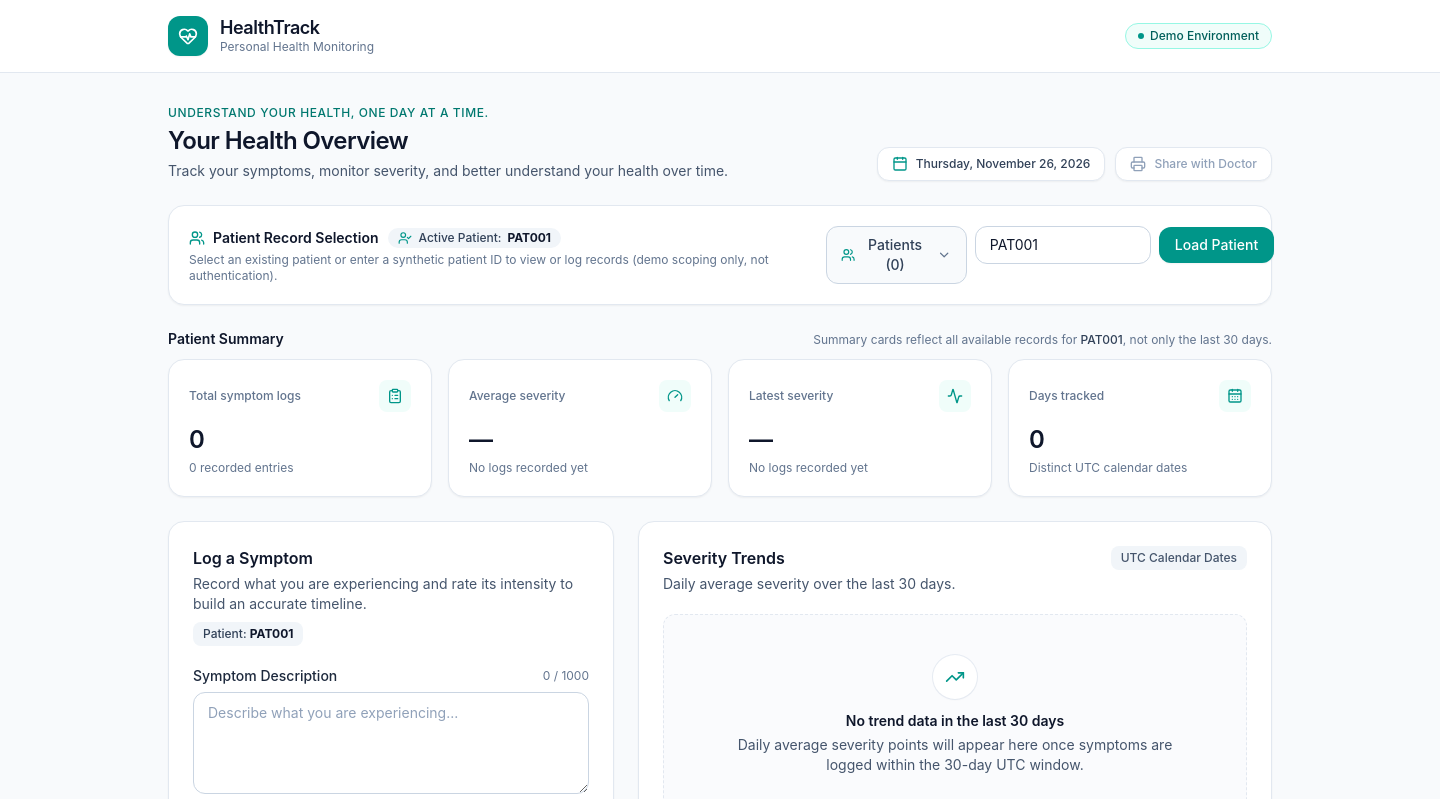
it: HealthTrack Dashboard › preserves entered symptom text on network failure and prevents duplicate pending submissions
The image size is (1440, 799).
Later steps or results of the test are not shown.
Type "Persistent dizziness" into the text box labelled "Symptom Description" at point(391, 743), box x1=193 y1=692 x2=589 y2=794
(page scrolled)
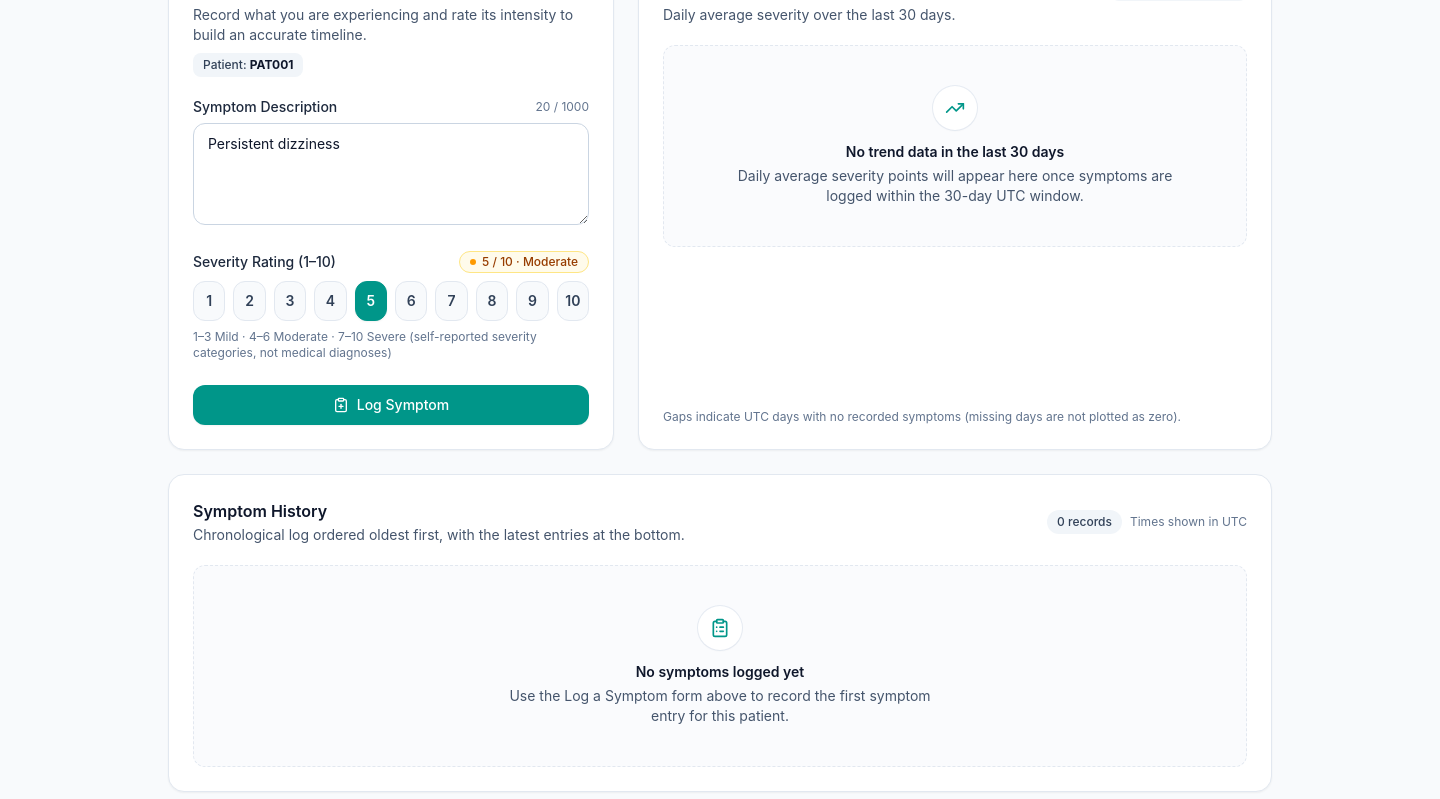
Click the button "Log Symptom" at point(391, 405), box x1=193 y1=385 x2=589 y2=425
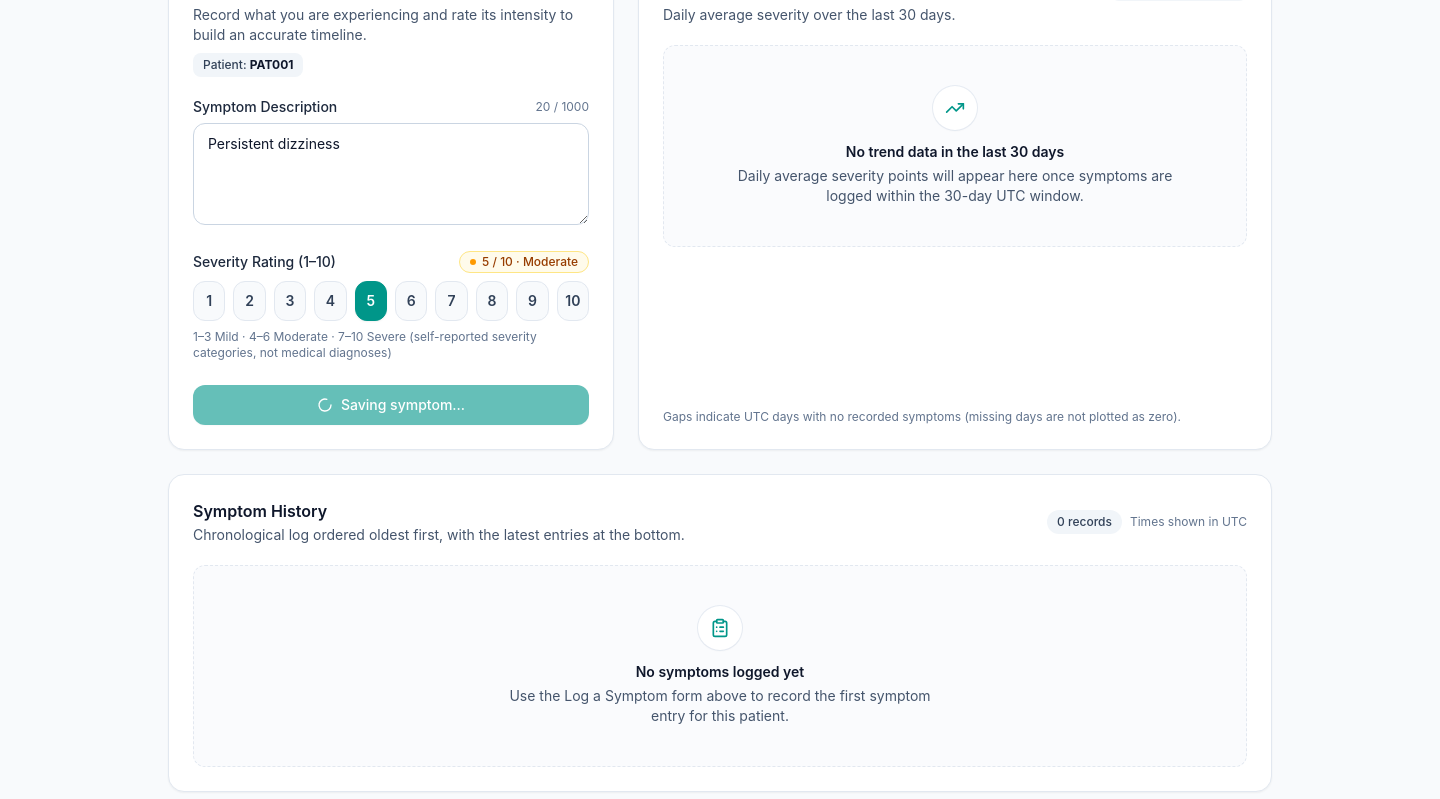
Attempt duplicate click while pending
Click the button named "Log Symptom" at point(391, 405), box x1=193 y1=385 x2=589 y2=425
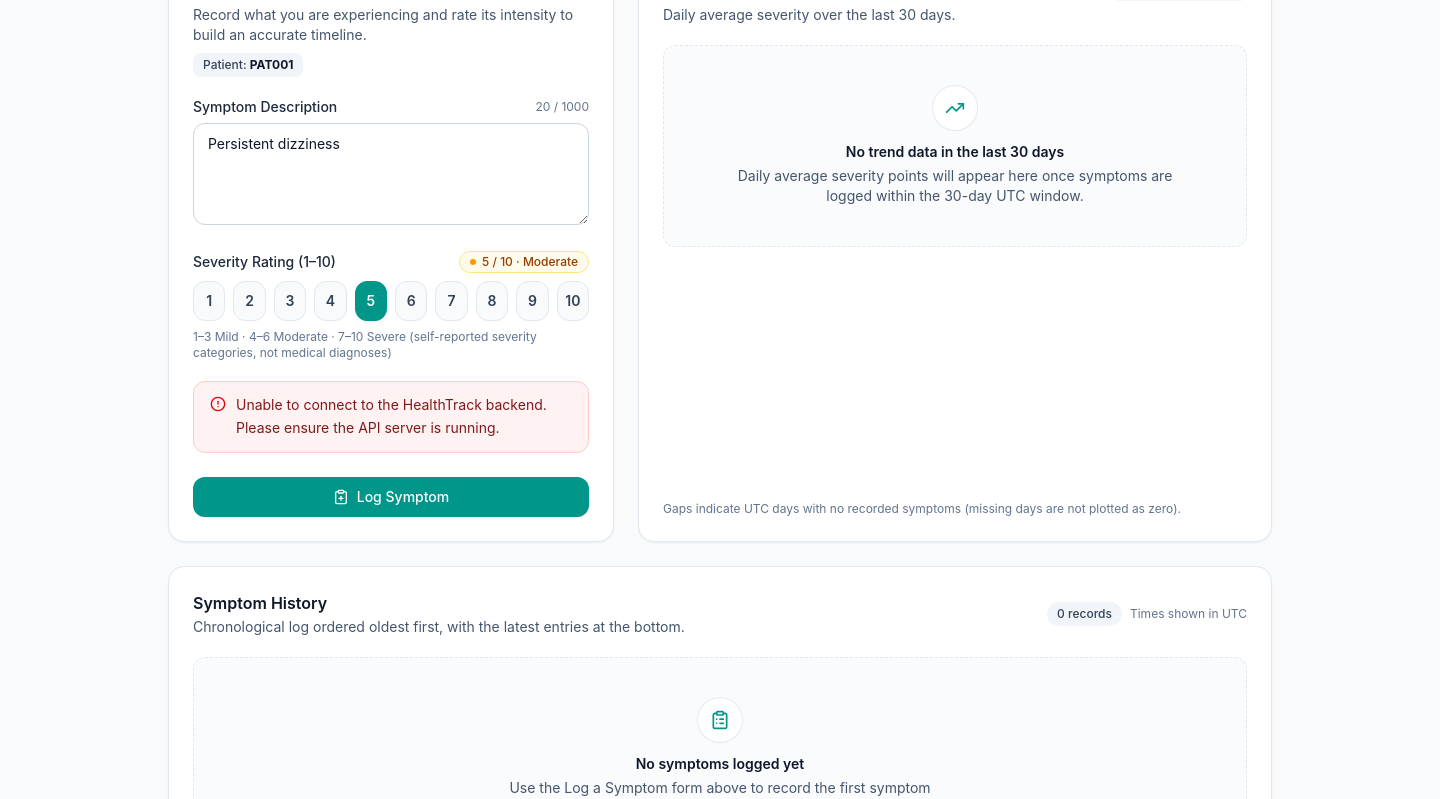
Result: the text "Unable to connect to the HealthTrack backend" is shown at x1=236 y1=396 x2=547 y2=436
